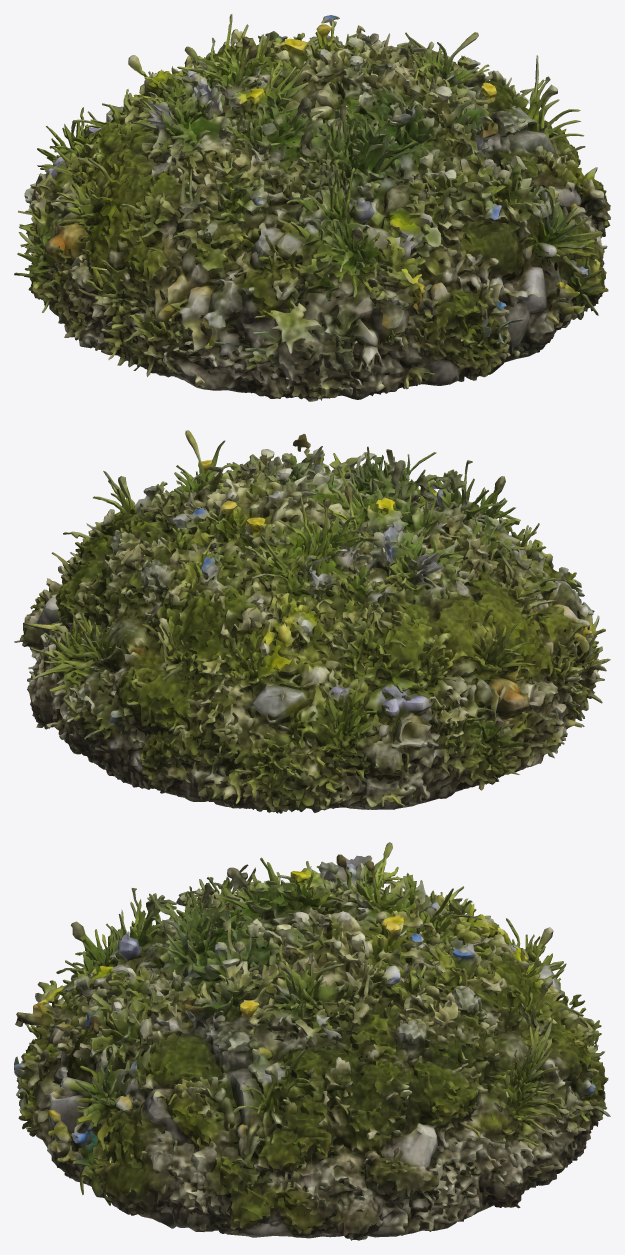
Rendered from alpine-turf-patch-v21-lod.glb.
3 renders of one model, top to bottom at view 1: azimuth 30°, elevation 25°; view 2: azimuth 150°, elevation 25°; view 3: azimuth 270°, elevation 25°, orthographic. The views are drawn at different scales.
Parts seen in each view (by area): view 1: geometry_0; view 2: geometry_0; view 3: geometry_0.
Part boxes in pixels (x1,y1,x2,y2): geometry_0: [14, 14, 610, 401]; geometry_0: [14, 430, 610, 813]; geometry_0: [14, 842, 610, 1240].
Bounding box in the file's own units: 0.3 × 0.1459 × 0.2998.
1 material, 1 textured.
